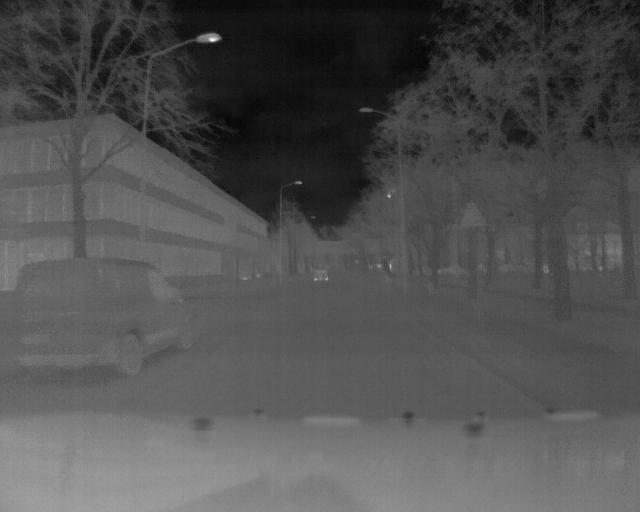car: (9, 256, 197, 381)
